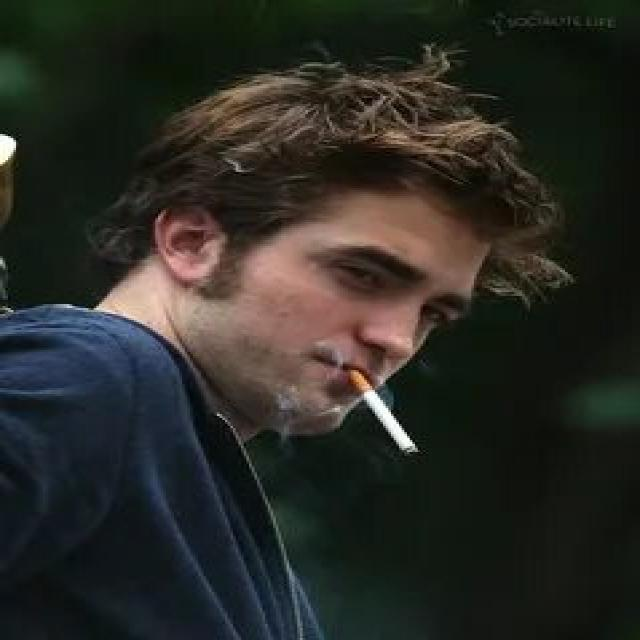cigarette: (340, 366, 426, 458)
